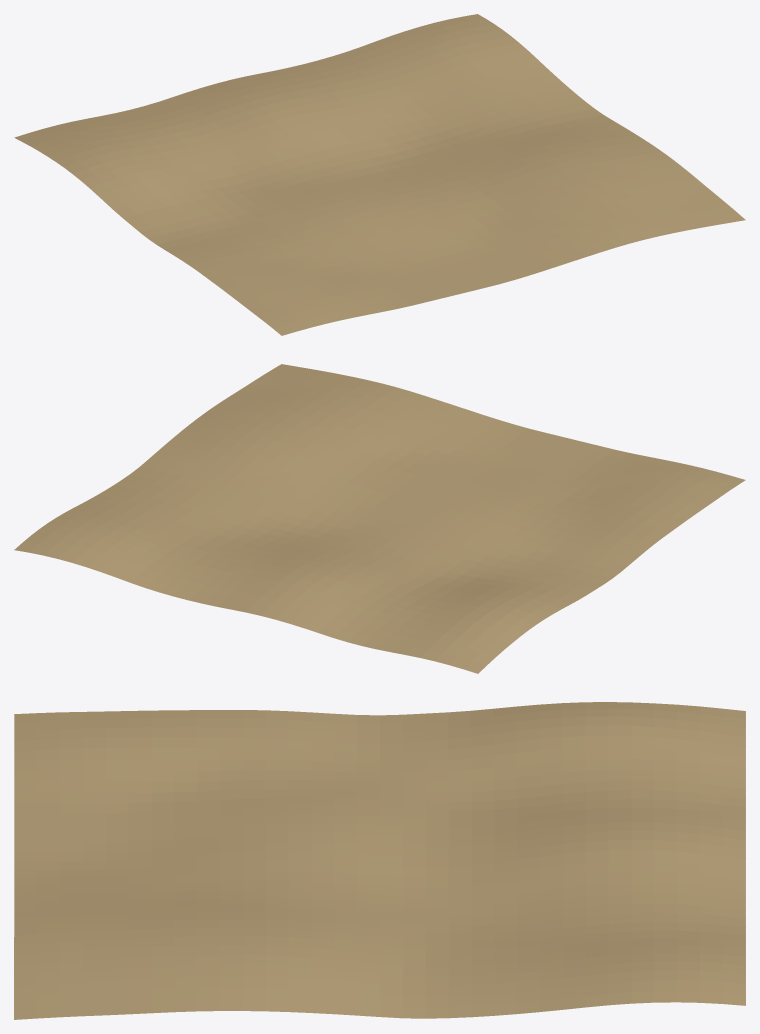
The model's file is Terrain.glb.
The picture shows the model from 3 angles, top to bottom: view 1: azimuth 30°, elevation 25°; view 2: azimuth 150°, elevation 25°; view 3: azimuth 270°, elevation 25°; orthographic projection. The views are drawn at different scales.
Visible parts, largest first — view 1: Plane; view 2: Plane; view 3: Plane.
Boxes of the visible parts, x1=… form: Plane: x1=14, y1=14, x2=745, y2=335; Plane: x1=14, y1=364, x2=745, y2=673; Plane: x1=14, y1=702, x2=745, y2=1019.
Size of what is drawn, in the model's own units: 29.08 by 1.14 by 29.04.
1 material, 1 textured.
